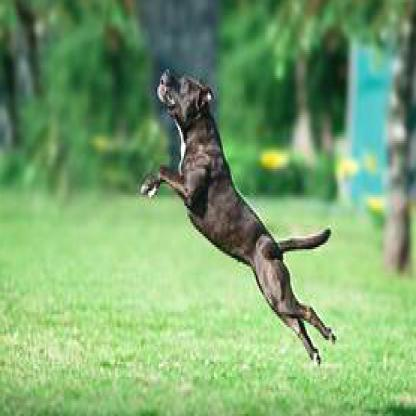dog: (139, 69, 337, 364)
